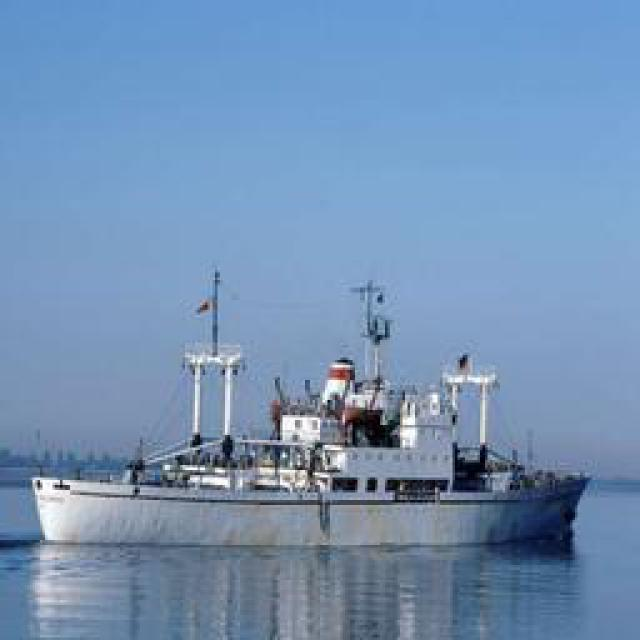Ship: (31, 256, 599, 541)
